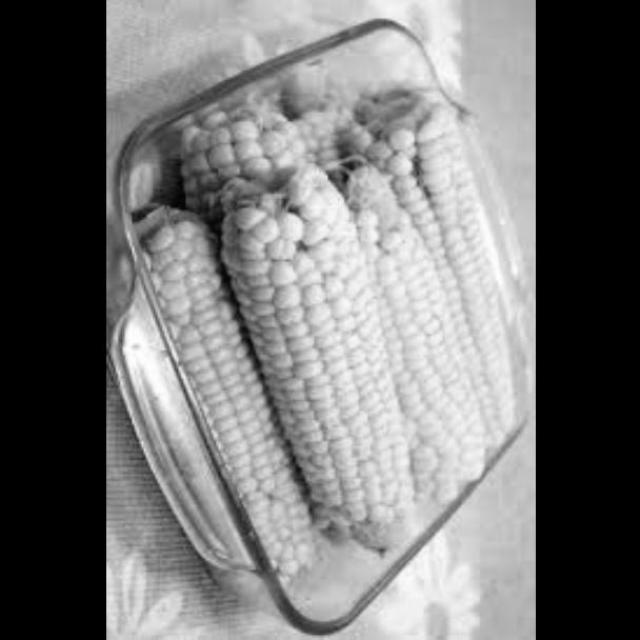cereal: (214, 164, 432, 558), (129, 201, 322, 578), (352, 90, 536, 453), (322, 155, 495, 498), (177, 80, 360, 198)
